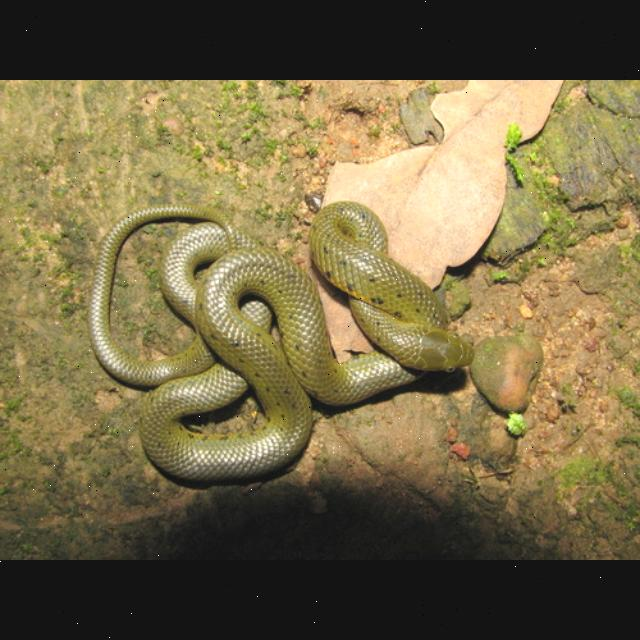snake: (89, 190, 471, 488)
